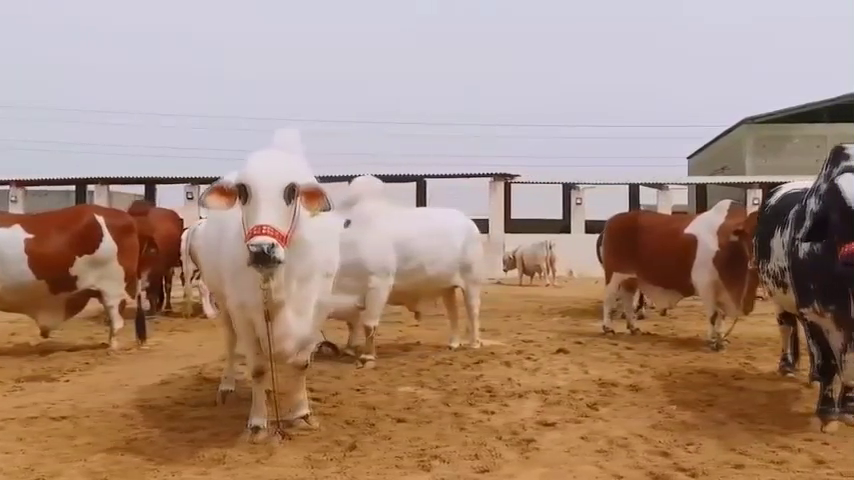bo: (197, 119, 332, 453), (320, 169, 492, 371), (755, 117, 854, 436), (587, 182, 760, 360), (2, 203, 146, 365), (124, 181, 180, 319), (495, 227, 565, 291)
